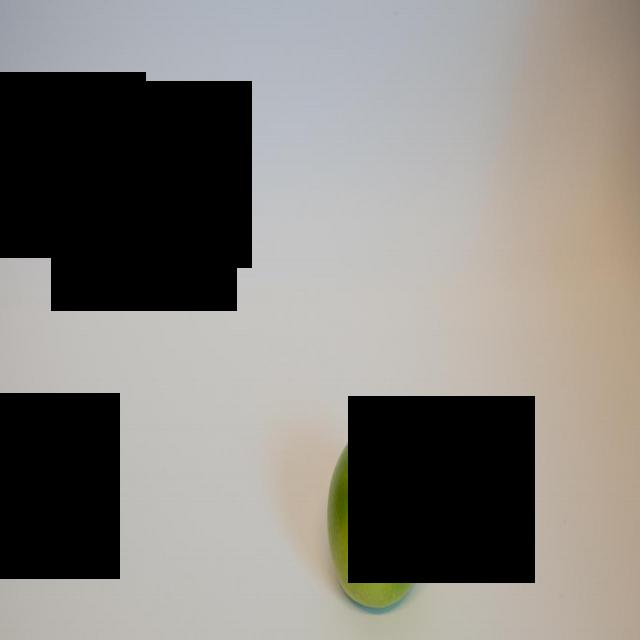apple: (323, 421, 431, 615)
